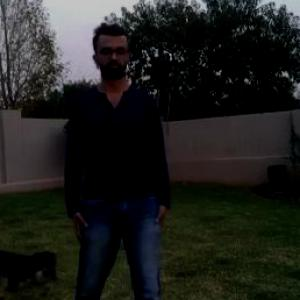follow: (64, 23, 167, 299)
